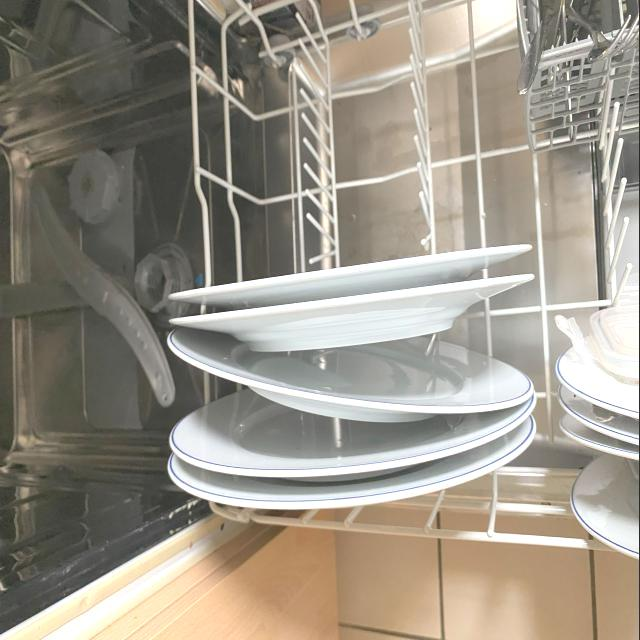empty_slot: (236, 0, 470, 265)
